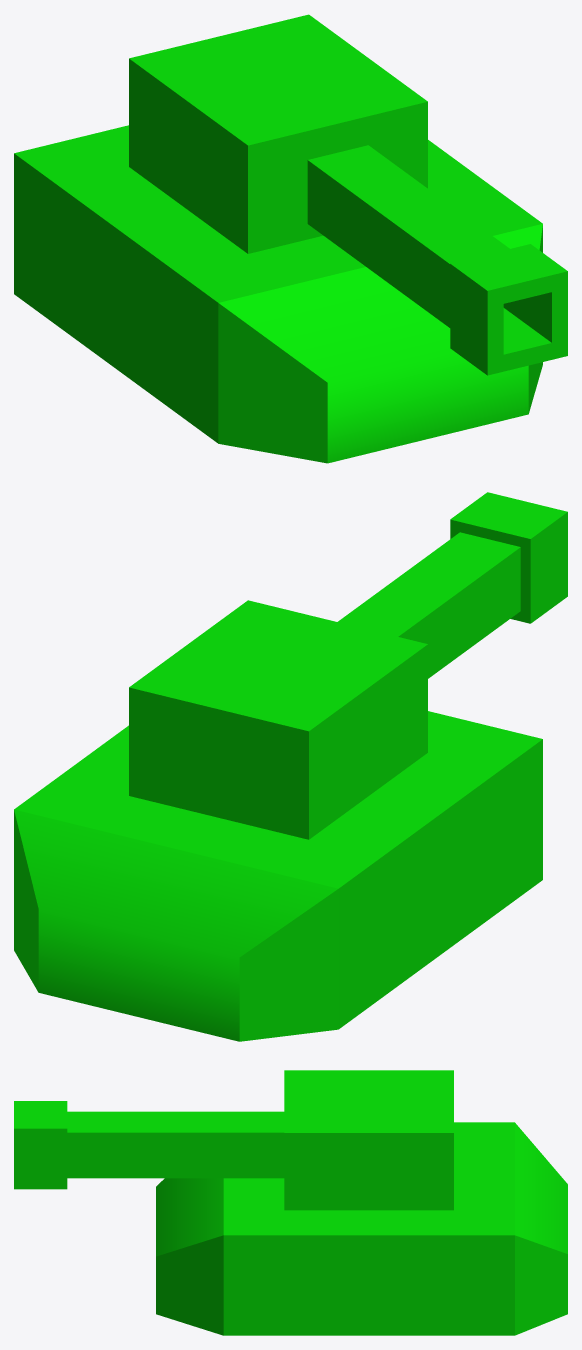
File: tank.fbx
3 renders of one model, top to bottom at view 1: azimuth 30°, elevation 25°; view 2: azimuth 150°, elevation 25°; view 3: azimuth 270°, elevation 25°, orthographic. The views are drawn at different scales.
Visible parts, largest first — view 1: pCube1; view 2: pCube1; view 3: pCube1.
Boxes of the visible parts, x1=… form: pCube1: x1=14, y1=14, x2=567, y2=463; pCube1: x1=14, y1=492, x2=567, y2=1041; pCube1: x1=14, y1=1070, x2=567, y2=1335.
Bounding box in the file's own units: 0.0669 × 0.0491 × 0.1388.
